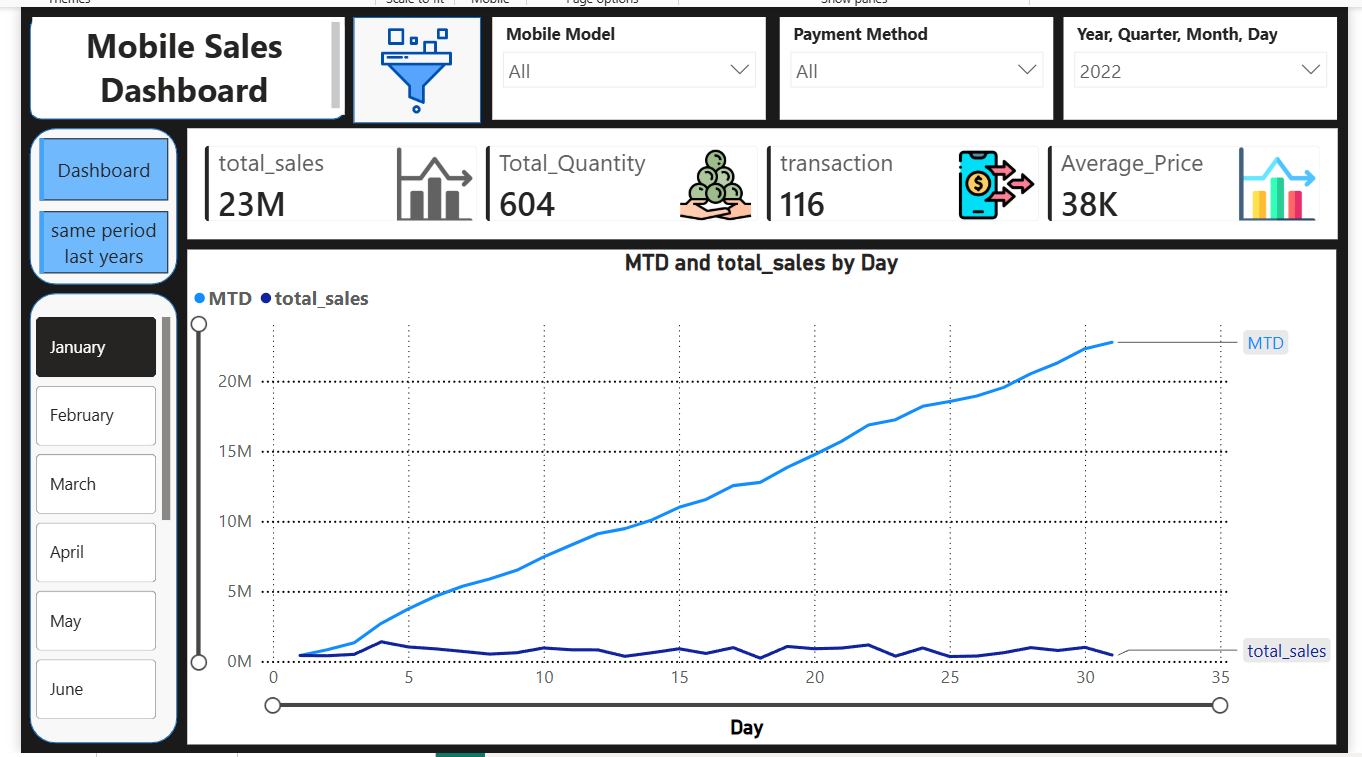

The page's visual inventory and layout, read from the dashboard file:
{"tool":"powerbi","page":{"name":"MTD Reports","canvas":[1280,720],"ordinal":1},"visuals":[{"type":"shape","box":[8.4,9.7,304,98.9],"z":0},{"type":"shape","box":[8.4,117,142.4,150.8],"z":1000},{"type":"cardVisual","fields":{"Data":["mobile_sales_data.total_sales","mobile_sales_data.Total_Quantity","mobile_sales_data.transaction","mobile_sales_data.Average_Price"]},"box":[160.5,116.6,1110.1,107],"z":2000},{"type":"slicer","fields":{"Values":["mobile_sales_data.Payment Method"]},"box":[732.3,9.7,264.2,98.9],"z":3000},{"type":"slicer","fields":{"Values":["mobile_sales_data.Mobile Model"]},"box":[454.8,9.7,264.2,98.9],"z":4000},{"type":"slicer","fields":{"Values":["custom_calender.Date.Variation.Date Hierarchy.Year","custom_calender.Date.Variation.Date Hierarchy.Quarter","custom_calender.Date.Variation.Date Hierarchy.Month","custom_calender.Date.Variation.Date Hierarchy.Day"]},"box":[1006.2,9.7,264.2,98.9],"z":5000},{"type":"shape","box":[320.9,9.7,123.1,102.5],"z":6000},{"type":"image","box":[324.5,19.3,114.6,84.5],"z":7000},{"type":"textbox","box":[10.9,9.7,301.6,94.1],"z":8000},{"type":"lineChart","fields":{"Category":["custom_calender.Date.Variation.Date Hierarchy.Year","custom_calender.Date.Variation.Date Hierarchy.Quarter","custom_calender.Date.Variation.Date Hierarchy.Month","custom_calender.Date.Variation.Date Hierarchy.Day"],"Y":["mobile_sales_data.MTD","mobile_sales_data.total_sales"]},"box":[160.5,234,1108.7,476.5],"z":9000},{"type":"shape","box":[8.4,276.3,142.4,434.3],"z":10000},{"type":"advancedSlicerVisual","fields":{"Values":["custom_calender.Date.Variation.Date Hierarchy.Month"]},"box":[9.7,294.4,139.9,398.1],"z":11000},{"type":"pageNavigator","box":[17.8,126.2,124.9,131.7],"z":12000}]}

Visuals, with their boxes on the page's 1280x720 design canvas (x1, y1, x2, y2). These are canvas units, not pixel positions in the 1362x757 screenshot, which may show the page scaled, cropped or inside an application window:
shape: Rect(8, 10, 312, 109)
shape: Rect(8, 117, 151, 268)
cardVisual - mobile_sales_data.total_sales x mobile_sales_data.Total_Quantity: Rect(160, 117, 1271, 224)
slicer - mobile_sales_data.Payment Method: Rect(732, 10, 996, 109)
slicer - mobile_sales_data.Mobile Model: Rect(455, 10, 719, 109)
slicer - custom_calender.Date.Variation.Date Hierarchy.Year x custom_calender.Date.Variation.Date Hierarchy.Quarter: Rect(1006, 10, 1270, 109)
shape: Rect(321, 10, 444, 112)
image: Rect(324, 19, 439, 104)
textbox: Rect(11, 10, 312, 104)
lineChart - custom_calender.Date.Variation.Date Hierarchy.Year x custom_calender.Date.Variation.Date Hierarchy.Quarter: Rect(160, 234, 1269, 710)
shape: Rect(8, 276, 151, 711)
advancedSlicerVisual - custom_calender.Date.Variation.Date Hierarchy.Month: Rect(10, 294, 150, 692)
pageNavigator: Rect(18, 126, 143, 258)
